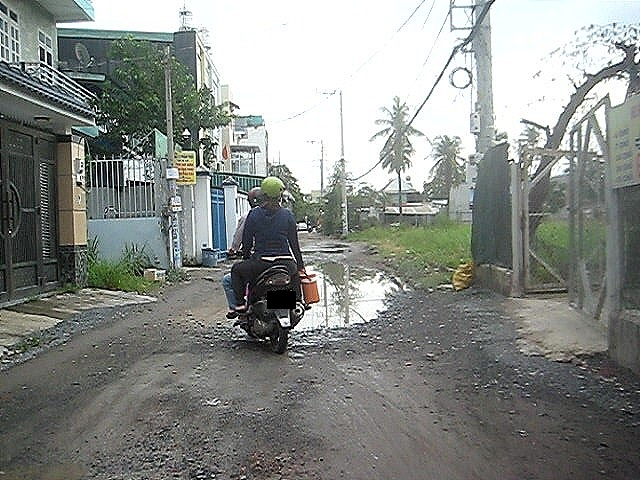hole: (319, 259, 412, 333), (178, 286, 223, 338), (313, 242, 353, 249), (302, 250, 353, 255)
